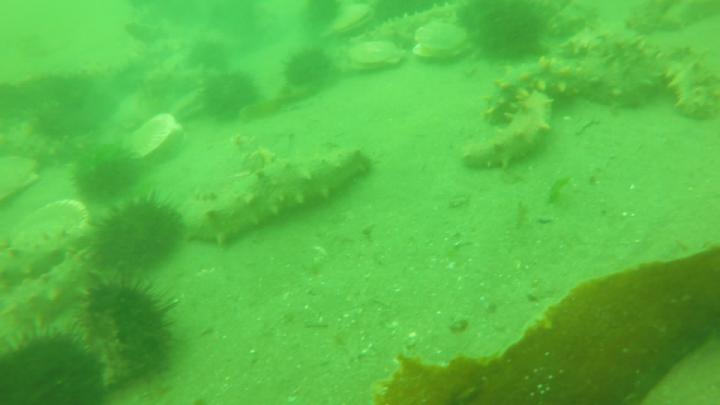echinus: (82, 279, 180, 380), (83, 192, 186, 282), (1, 324, 106, 405), (470, 1, 554, 66), (71, 141, 142, 203), (193, 70, 264, 127), (278, 47, 338, 96), (185, 37, 232, 81), (370, 1, 433, 25), (301, 1, 347, 29)
holothurian: (175, 143, 379, 248), (486, 56, 602, 126), (2, 243, 91, 330), (460, 89, 551, 171), (572, 29, 663, 110), (350, 5, 464, 47), (1, 233, 87, 288), (663, 46, 720, 123), (1, 121, 57, 160)
scallop: (2, 199, 91, 247), (128, 110, 182, 171), (414, 19, 476, 64), (347, 36, 408, 77), (1, 155, 46, 209), (324, 1, 376, 38)
